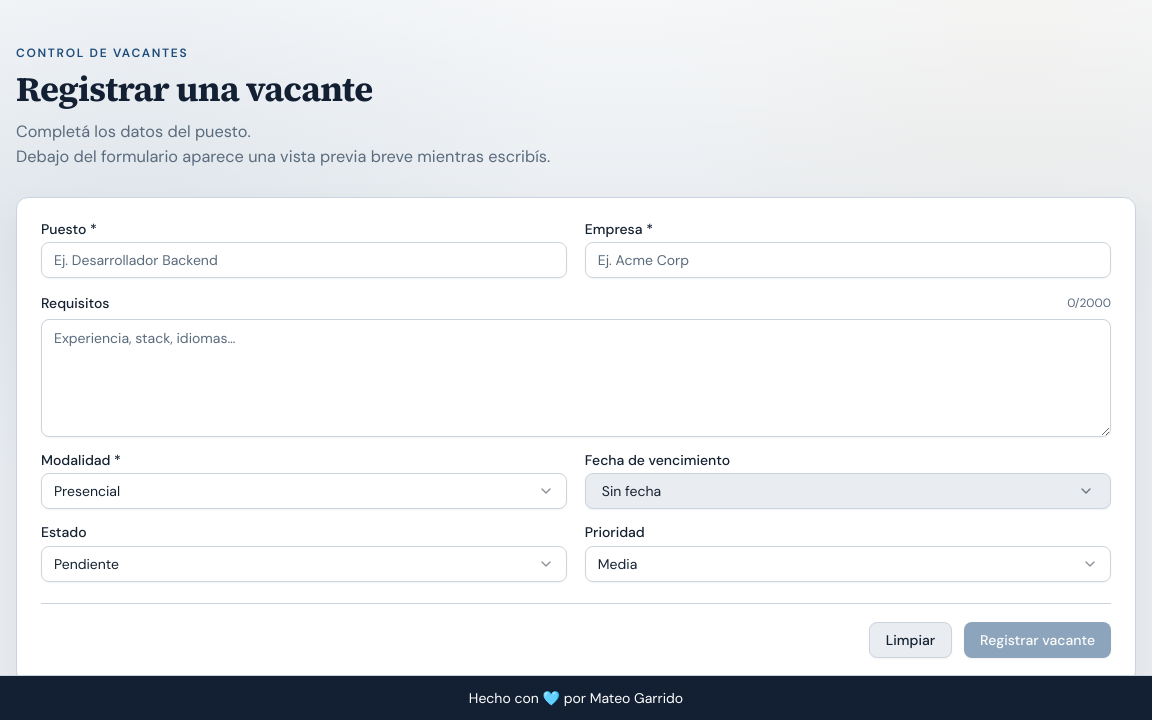
Test case: VacanteCreatePage › submits the form payload and shows the success panel
In the field with test id "input-vacante-puesto": (304, 260) [41, 242, 567, 278], type "Pasante Sistemas"
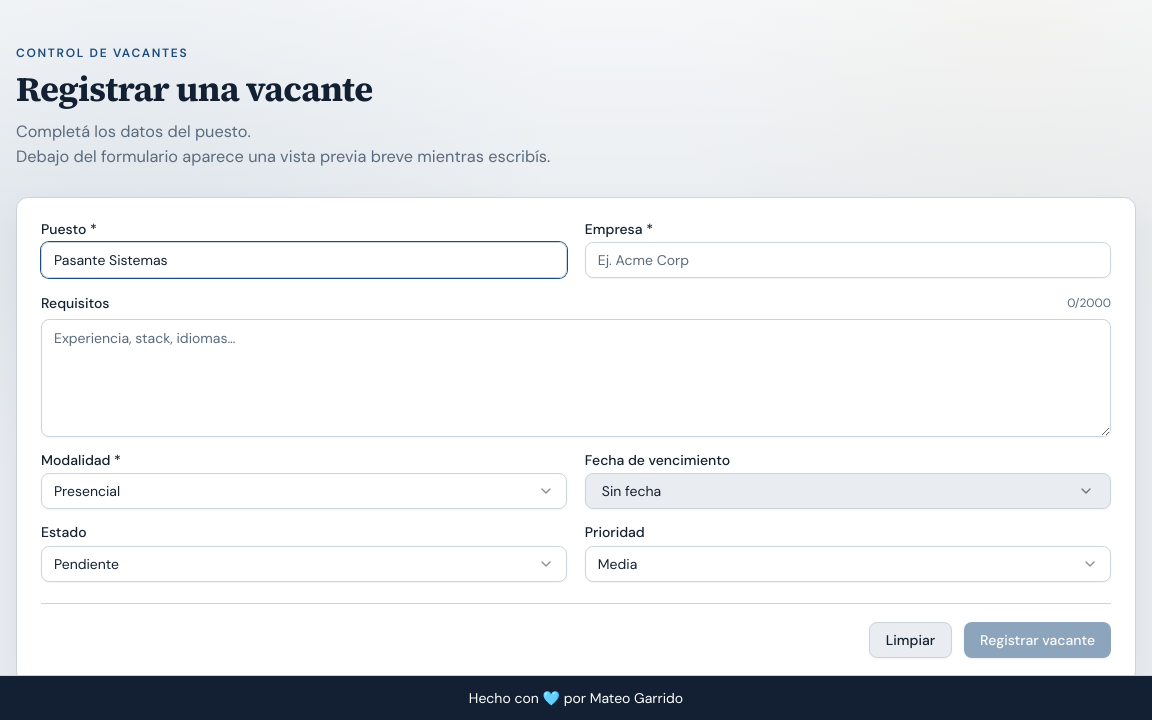
In the field with test id "input-vacante-empresa": (848, 260) [585, 242, 1111, 278], type "Mercado Libre"
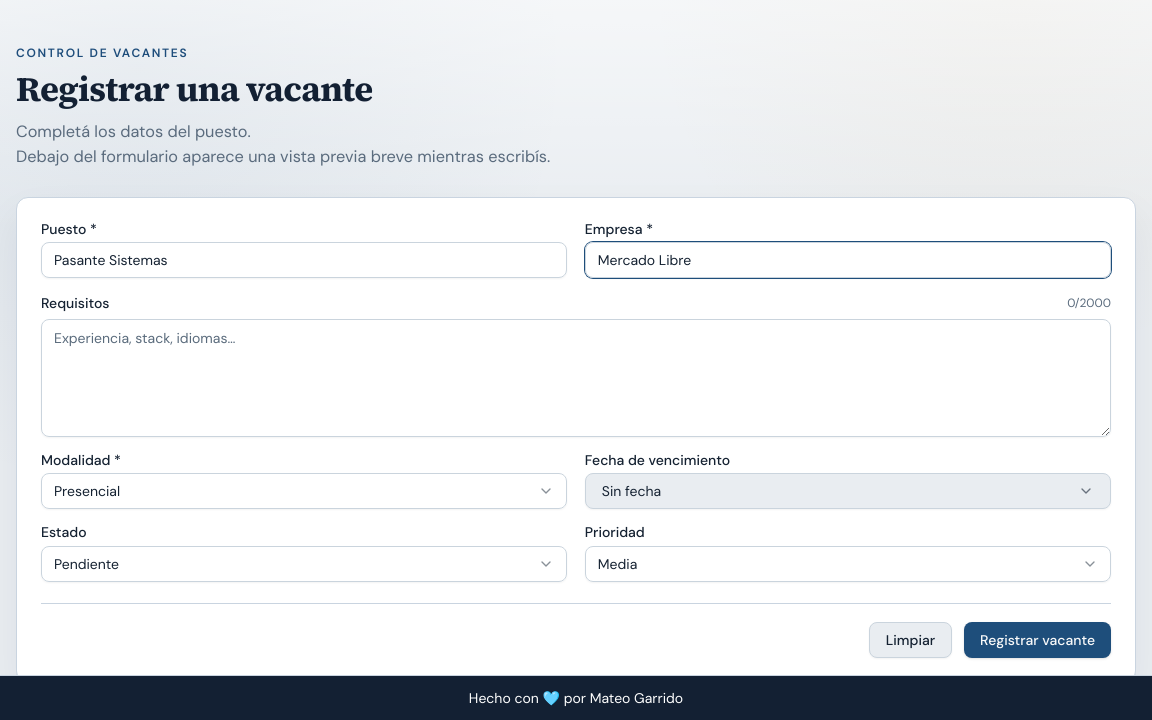
Click the button with test id "button-create-vacante": (1038, 640) [964, 622, 1111, 658]
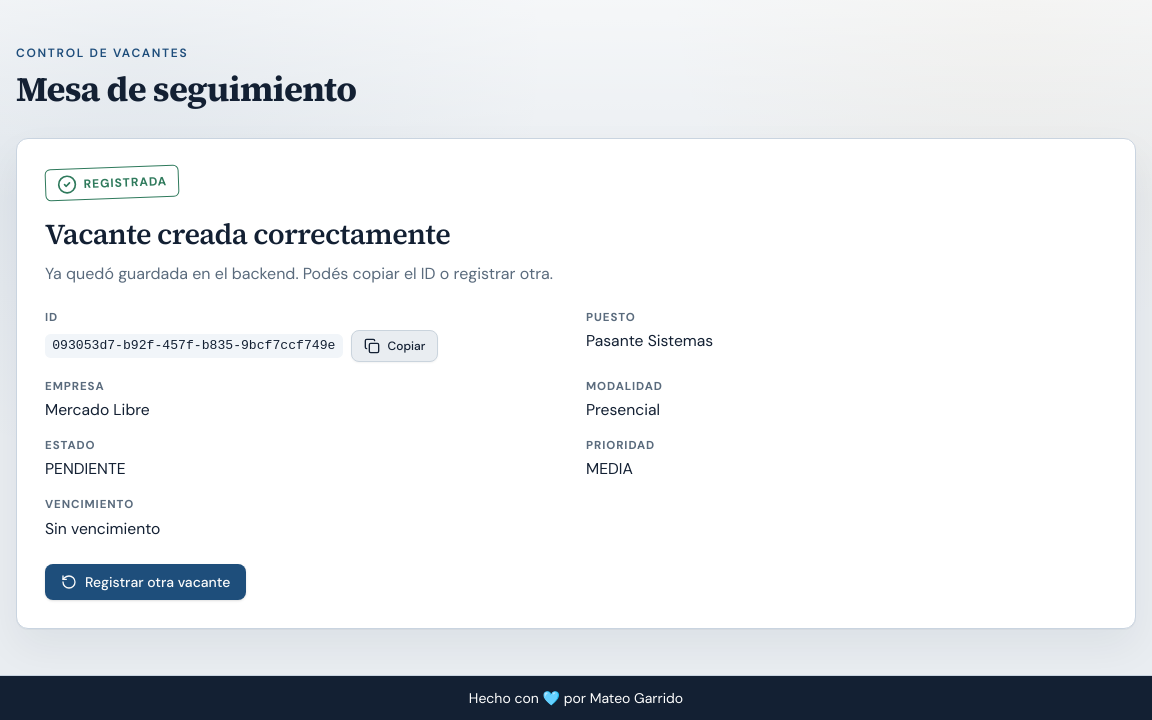
Result: the heading "Vacante creada correctamente" is shown at [45, 214, 450, 254]
